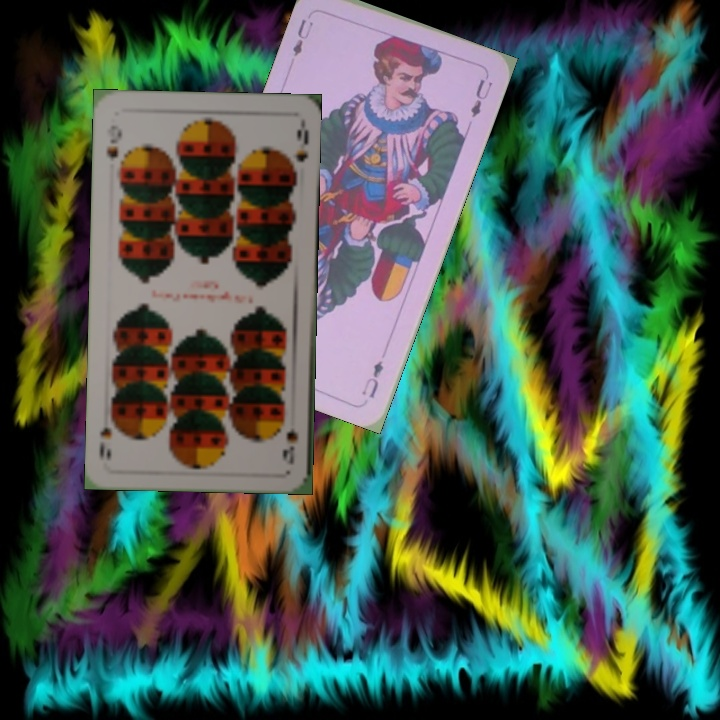EU: (357, 357, 386, 401), (288, 15, 316, 60)
S9: (279, 424, 300, 468), (103, 120, 124, 162)
